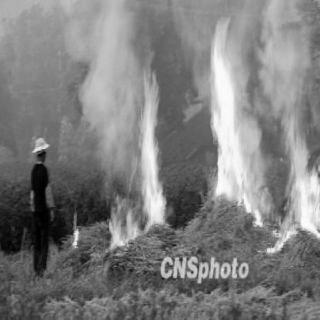Fire: (204, 14, 266, 230)
